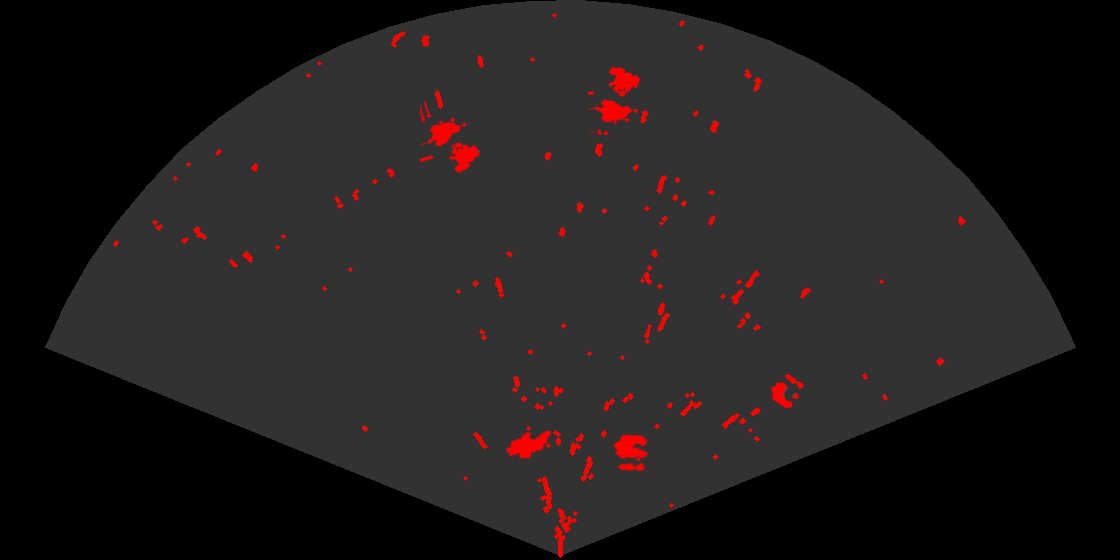AUV: (504, 428, 553, 461)
ball: (612, 433, 650, 473), (769, 372, 806, 410)
cage: (420, 101, 481, 175), (588, 65, 642, 135)
